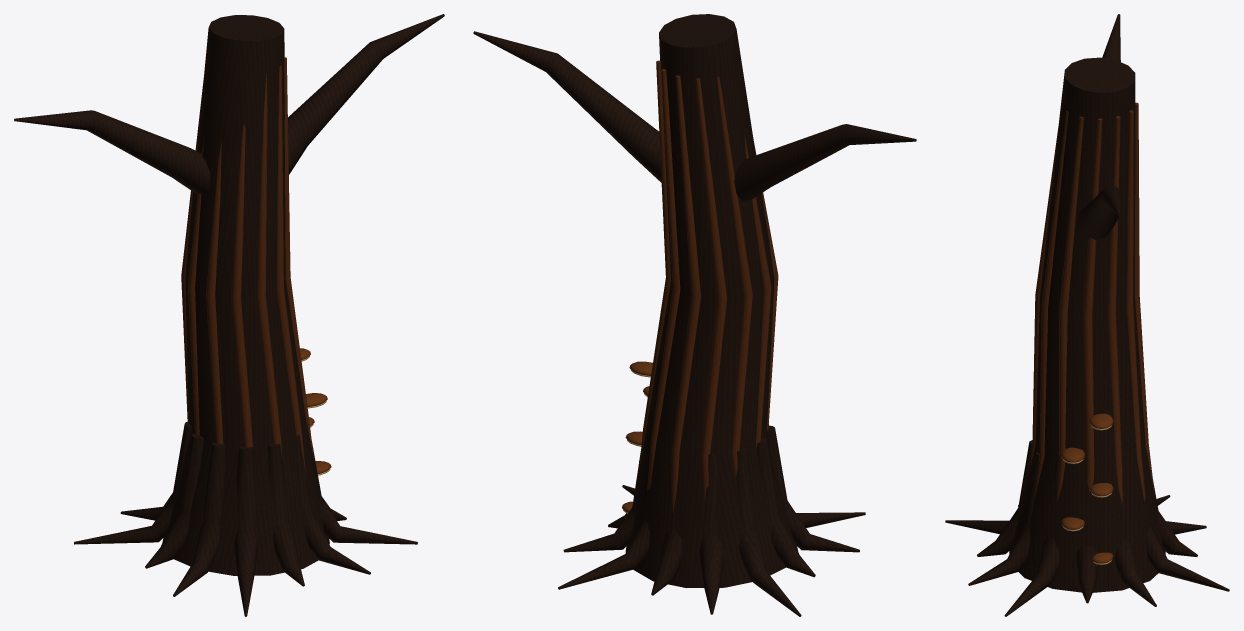
The picture shows the model from 3 angles, left to right: view 1: azimuth 30°, elevation 25°; view 2: azimuth 150°, elevation 25°; view 3: azimuth 270°, elevation 25°; orthographic projection. The views are drawn at different scales.
Visible parts, largest first — view 1: canopy-ancient-tree · evaluated preview mesh; view 2: canopy-ancient-tree · evaluated preview mesh; view 3: canopy-ancient-tree · evaluated preview mesh.
Boxes of the visible parts, x1,y1,x2,y2 form: canopy-ancient-tree · evaluated preview mesh: [14, 14, 444, 616]; canopy-ancient-tree · evaluated preview mesh: [473, 14, 916, 616]; canopy-ancient-tree · evaluated preview mesh: [945, 14, 1229, 616].
Size of the model in its own units: 30.03 by 34.43 by 18.09.
4 materials, 3 textured.
